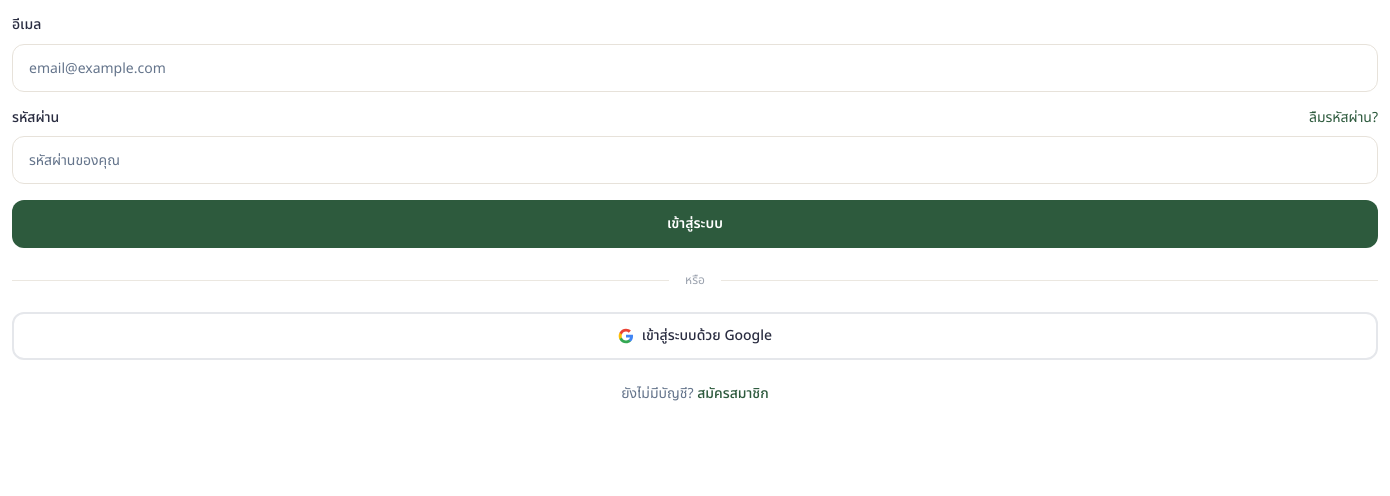
Test: LoginForm › Authentication Failure › shows generic error message for other errors
Type "test@example.com" into the field labelled "อีเมล".
click(695, 68); type("test@example.com")  # box 12,44 -> 1378,92
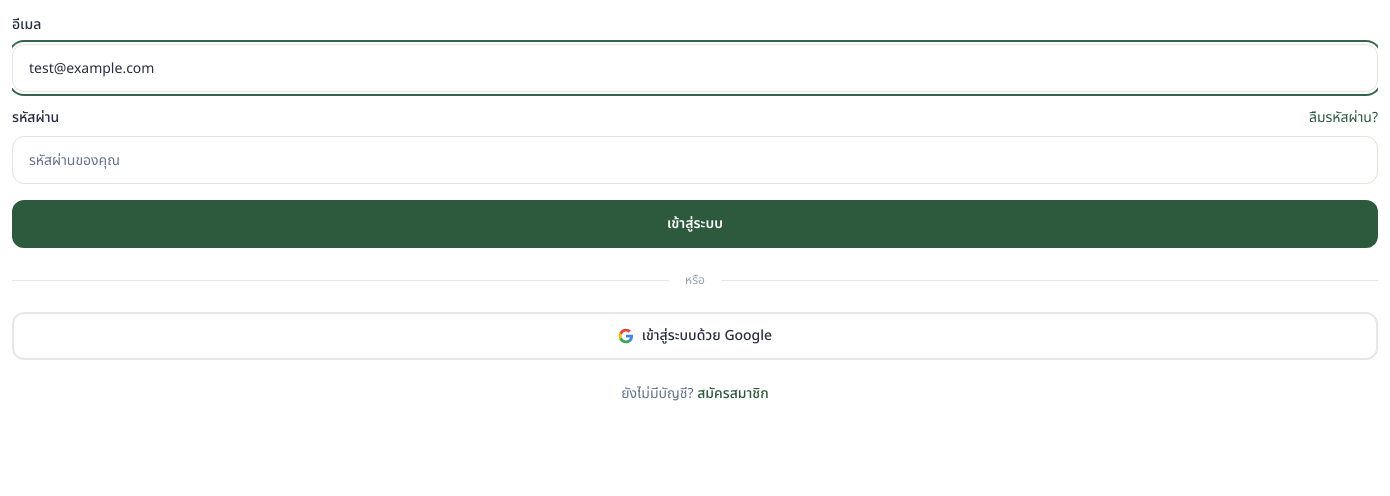
Type "password123" into the password field labelled "รหัสผ่าน".
click(695, 160); type("password123")  # box 12,136 -> 1378,184
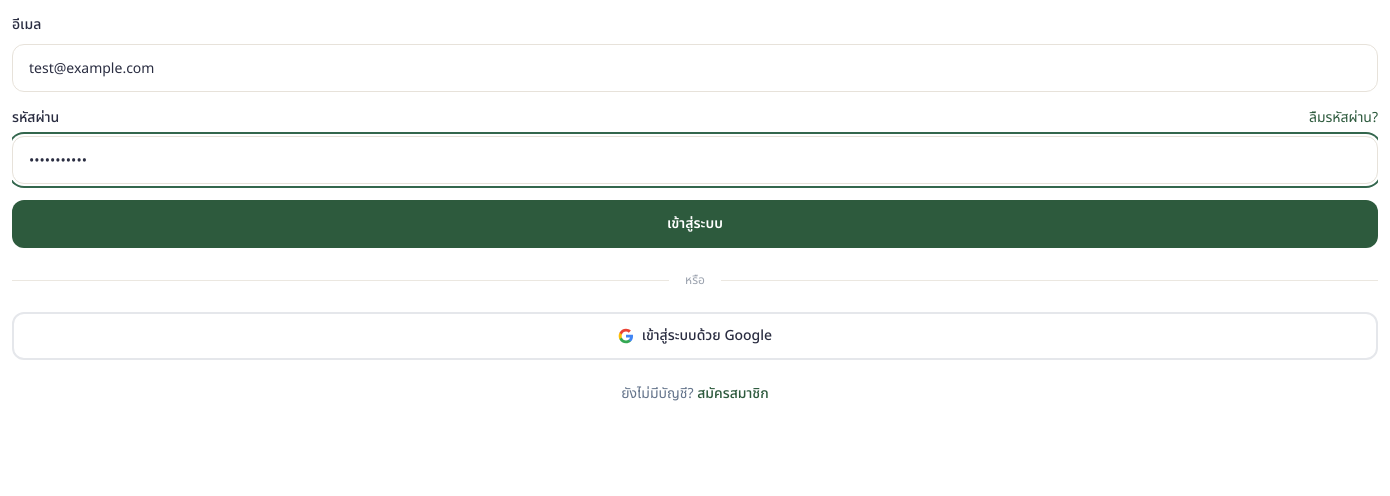
Click the button "เข้าสู่ระบบ".
click(695, 224)  # box 12,200 -> 1378,248
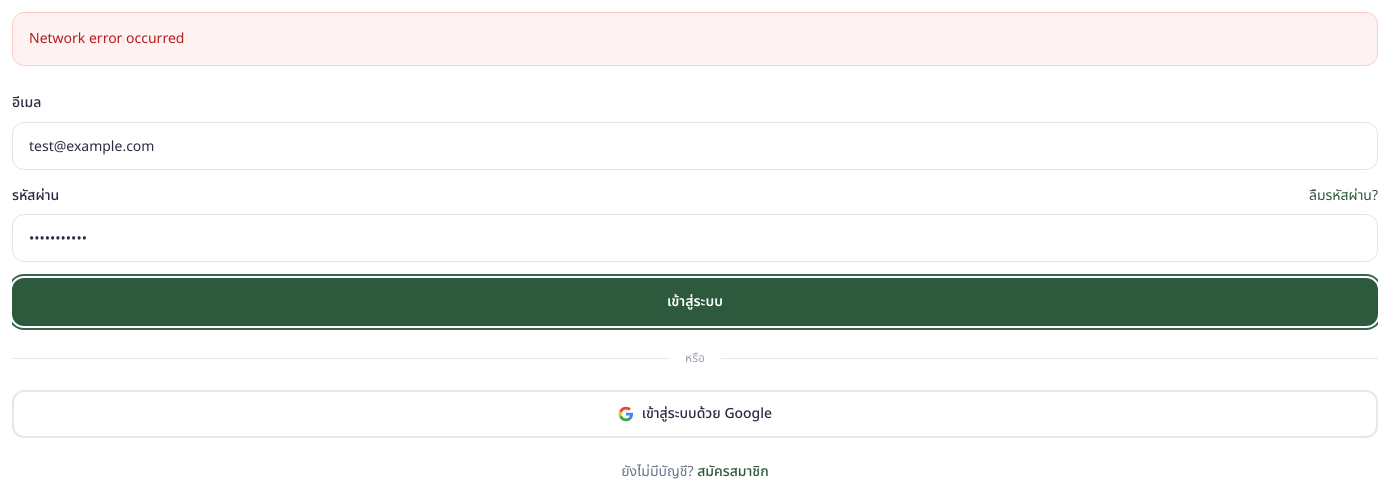
Now the text "Network error occurred" is shown, box 12,12 -> 1378,66
